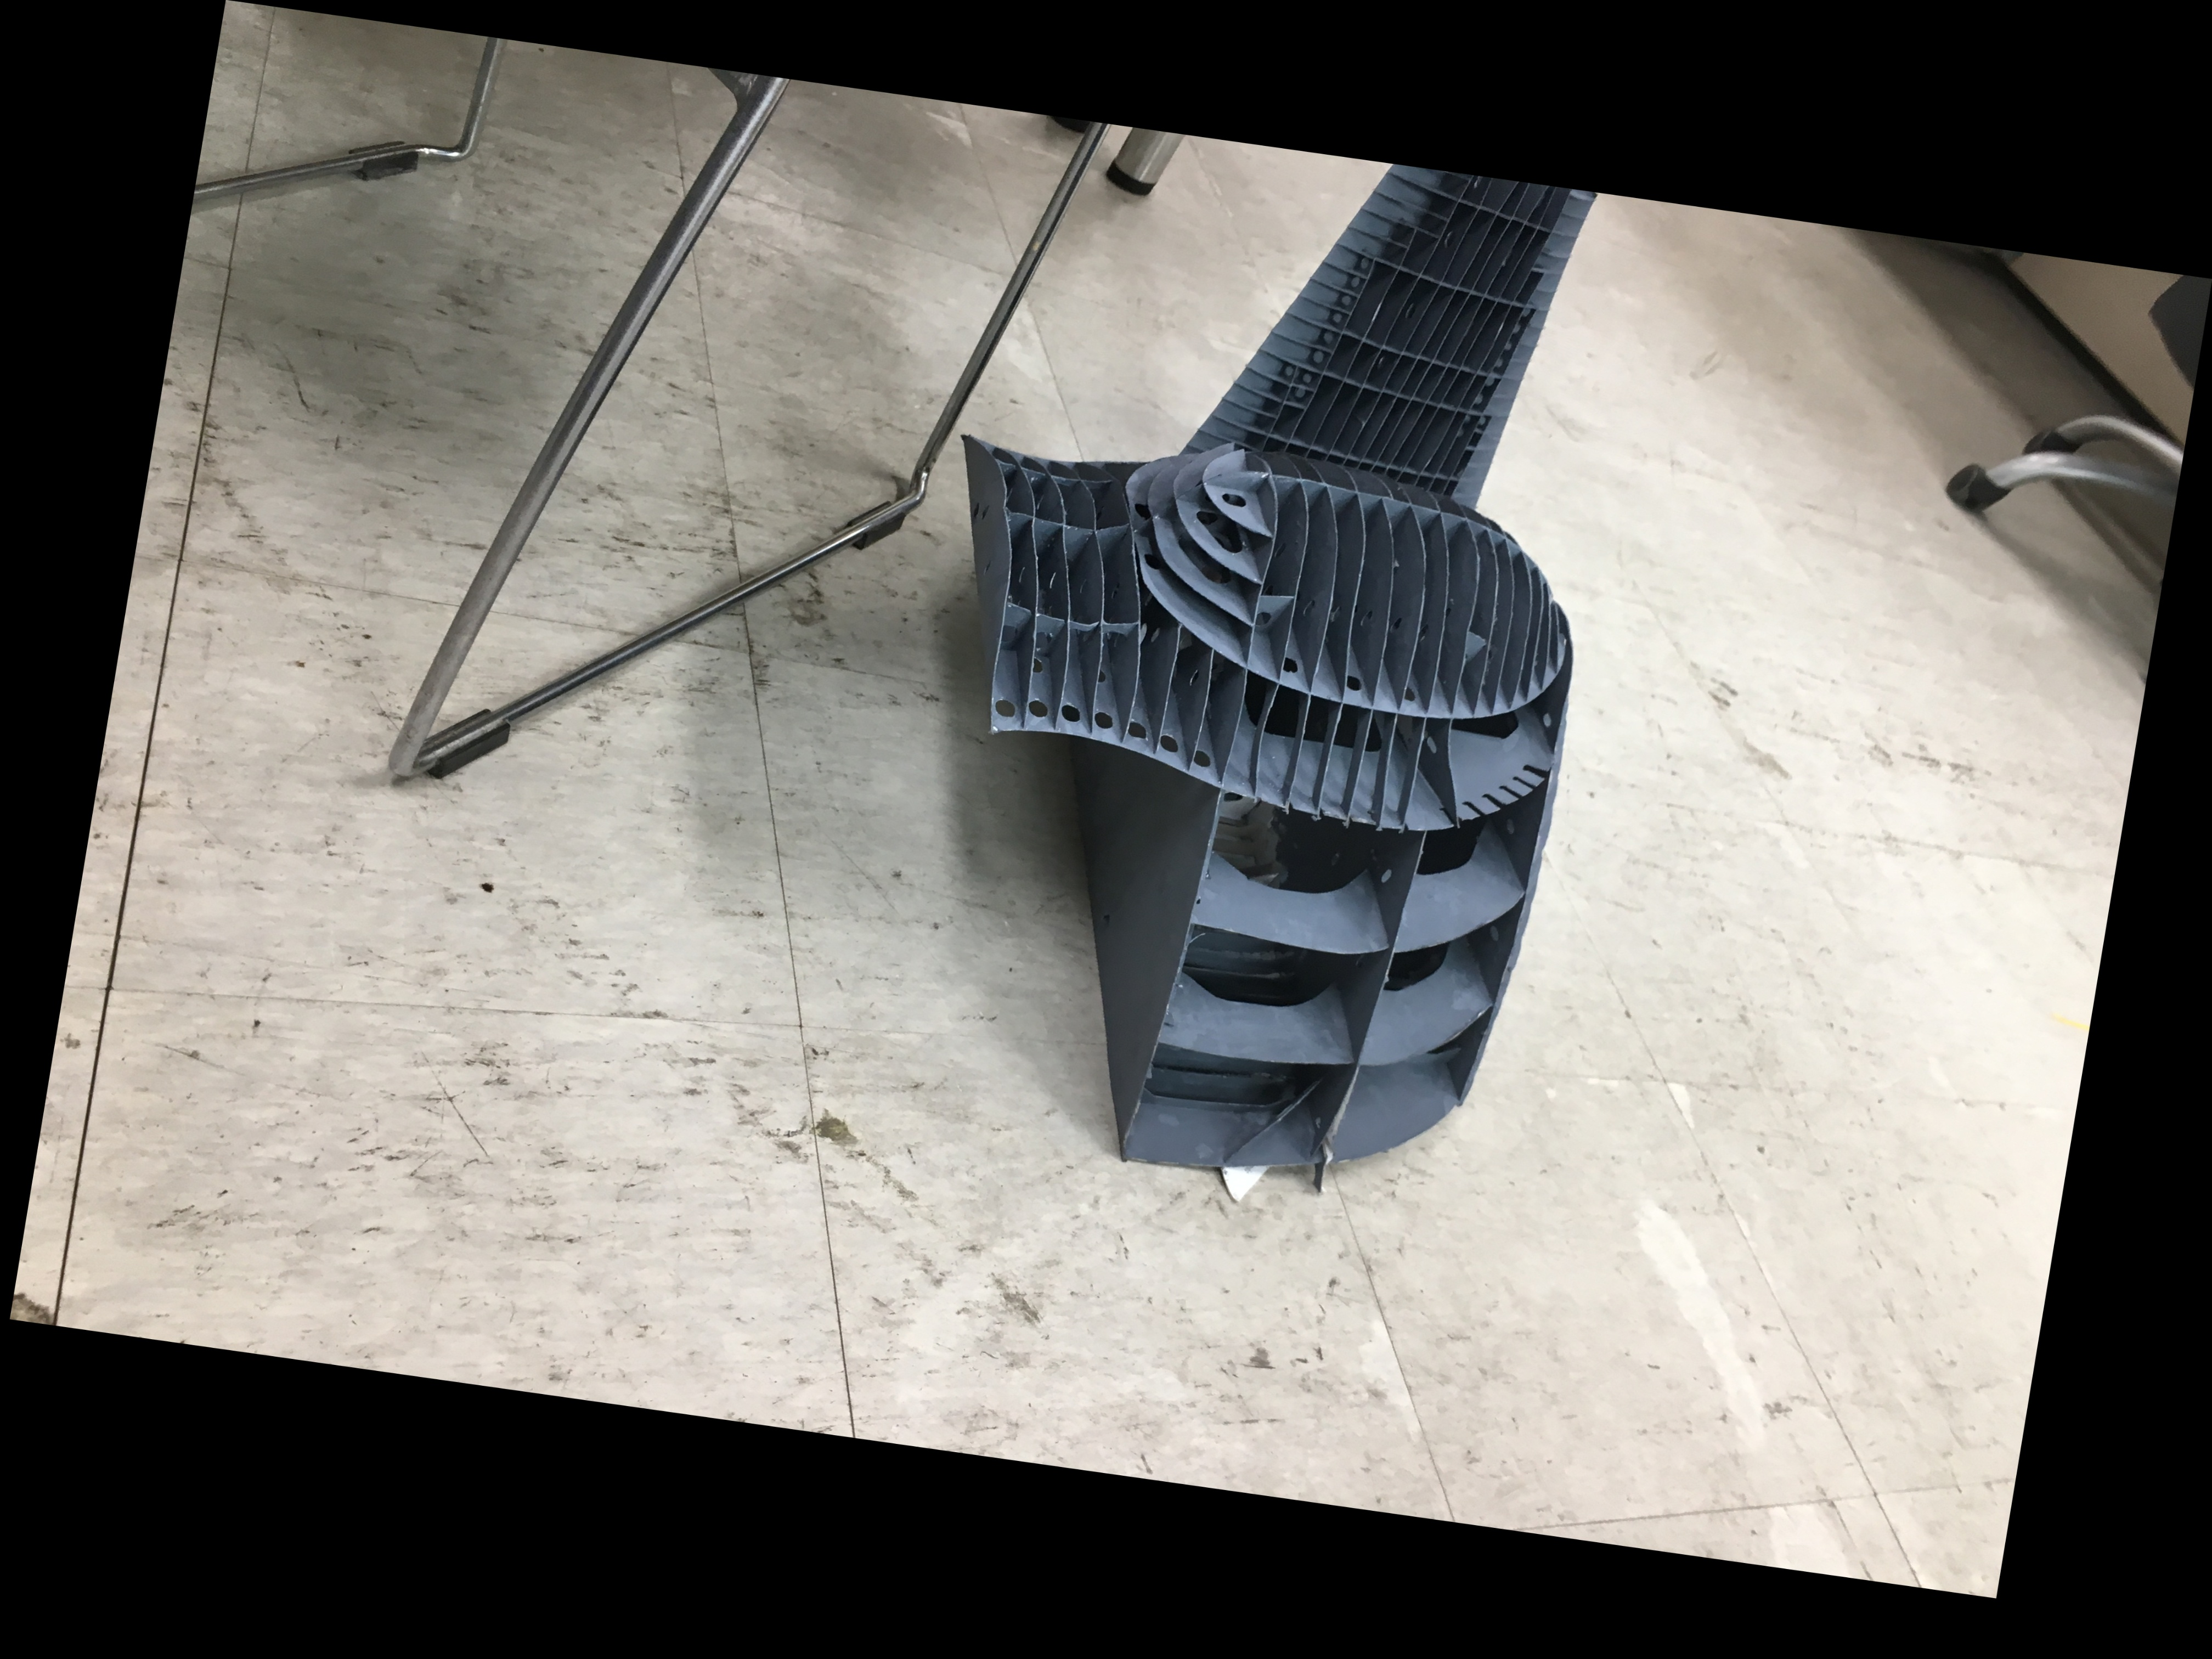D: (819, 357, 1674, 1244)
